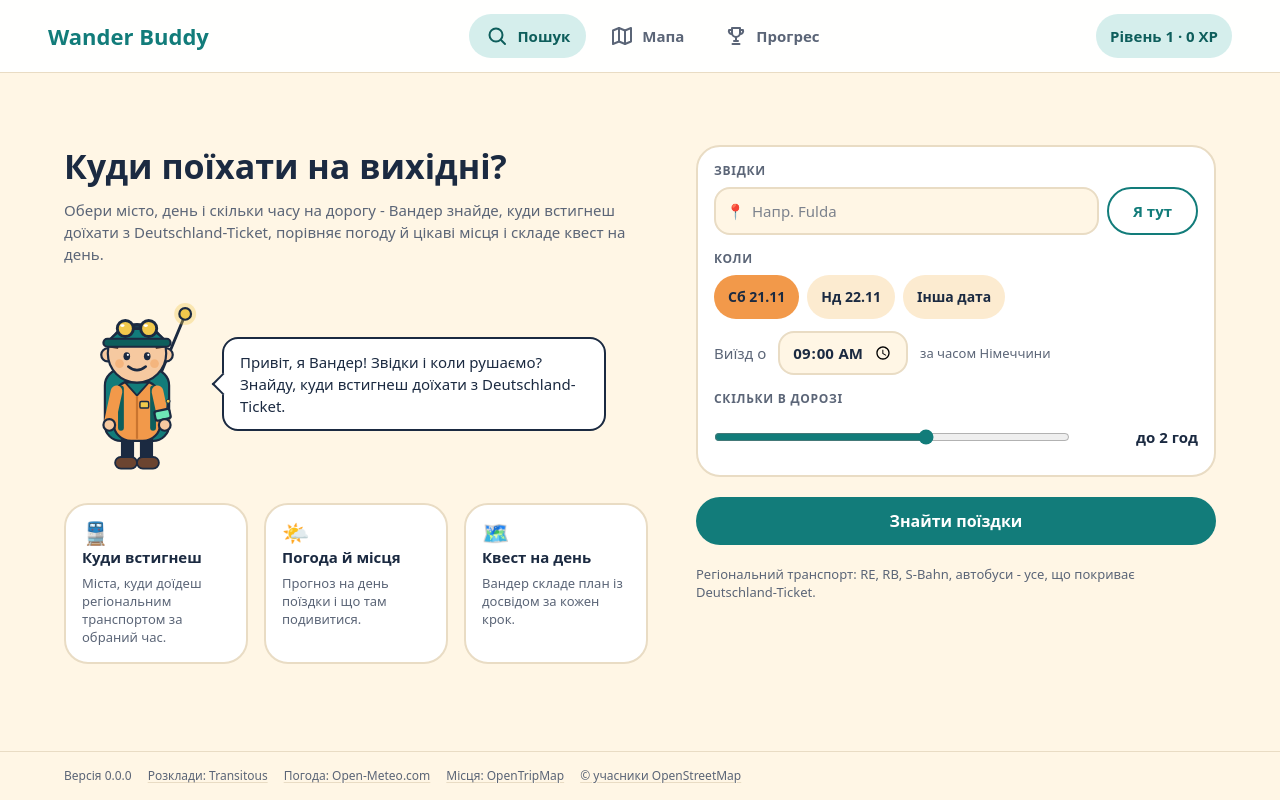
Test: "I am here" › error code 1 gives its own advice
Step 1. Click the button "Я тут" → (1152, 211), box 1107,187 -> 1198,235
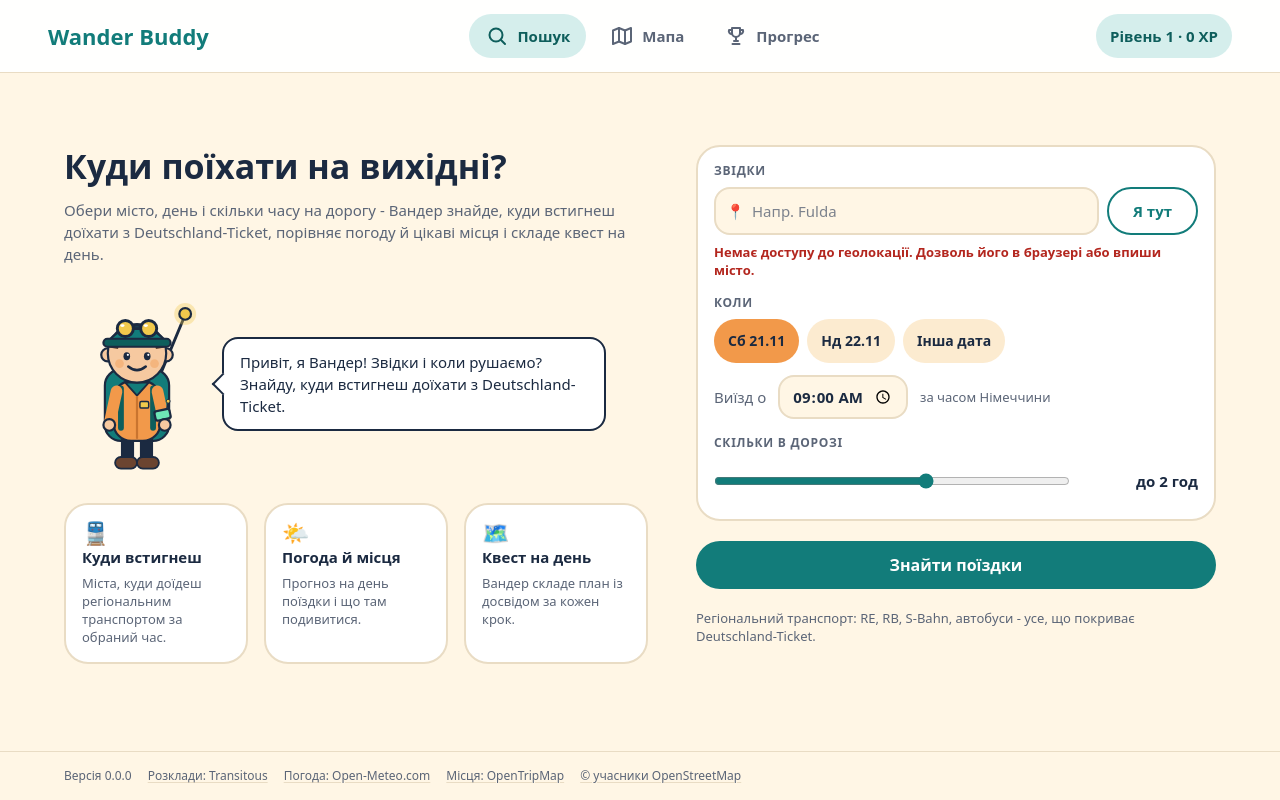
Check: the message reads "Немає доступу до геолокації. Дозволь його в браузері або впиши місто.", box 714,243 -> 1161,279
